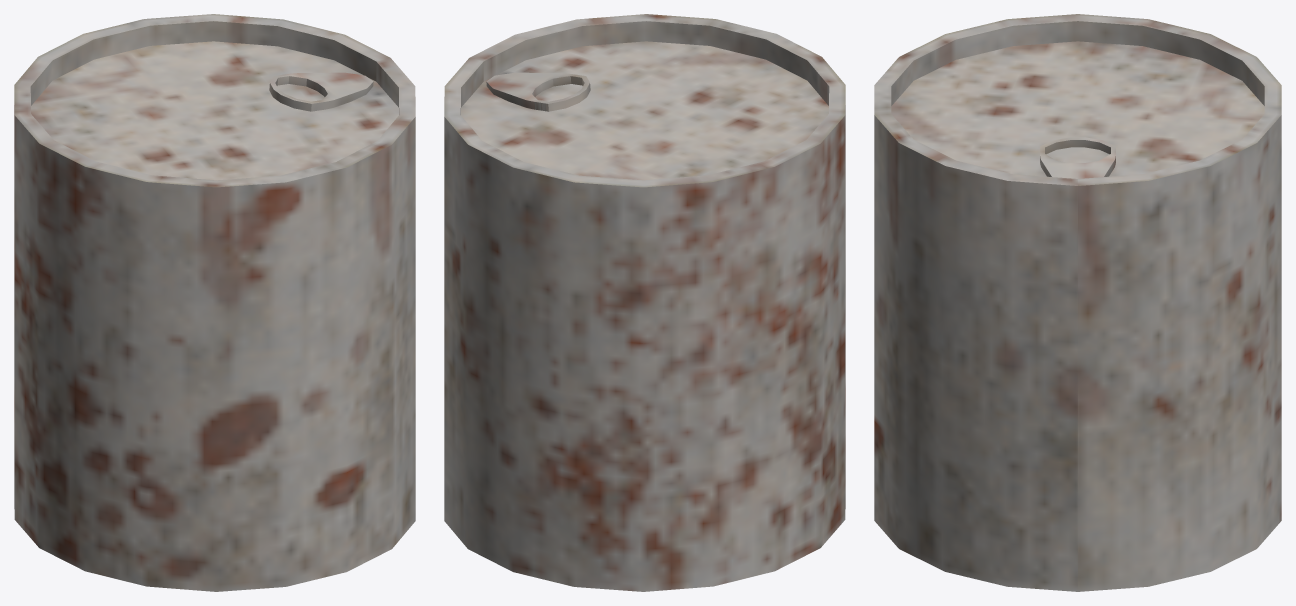
File: SM_can_l.fbx
3 renders of one model, left to right at view 1: azimuth 30°, elevation 25°; view 2: azimuth 150°, elevation 25°; view 3: azimuth 270°, elevation 25°, orthographic.
Parts seen in each view (by area): view 1: SM_can_l_LOD0; view 2: SM_can_l_LOD0; view 3: SM_can_l_LOD0.
Part boxes in pixels (left/top/right/bottom): SM_can_l_LOD0: left=14, top=14, right=415, bottom=591; SM_can_l_LOD0: left=444, top=14, right=845, bottom=591; SM_can_l_LOD0: left=874, top=14, right=1281, bottom=591.
Size of the model in its own units: 10 by 10 by 11.
